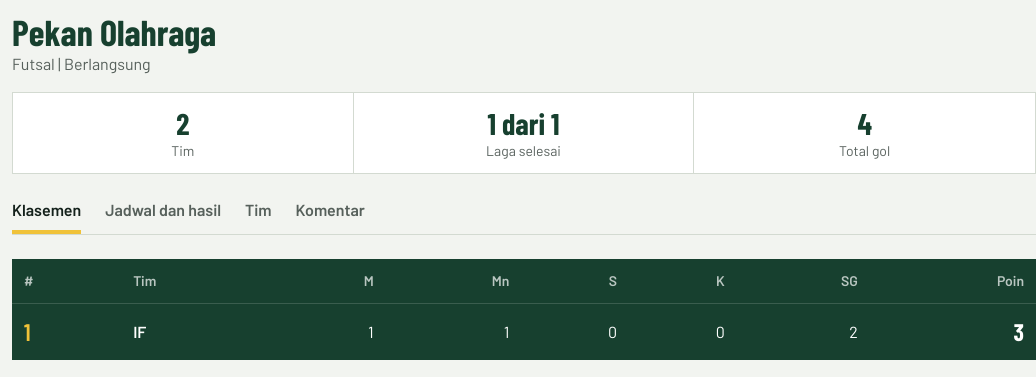
Test: DetailPage › menampilkan klasemen dan tab hasil
expect the table is shown: met, box [12,259,1035,360]
Click the tab "Jadwal dan hasil". click: {"x": 163, "y": 216}
box: [105,198,221,234]
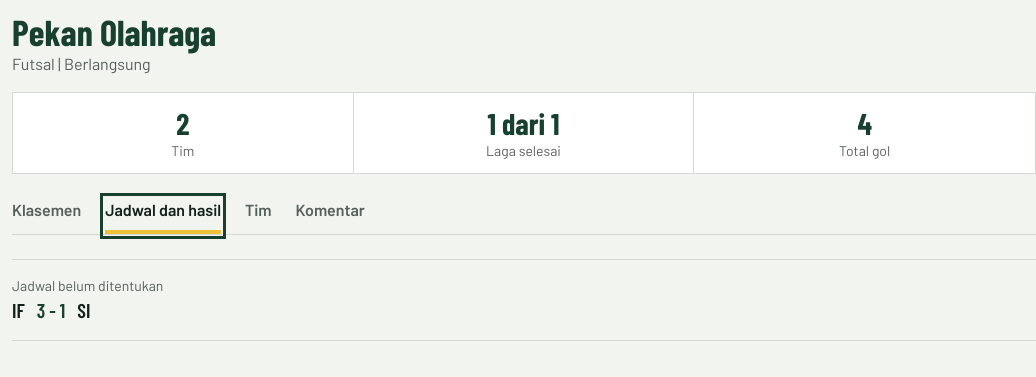
expect the text "3 - 1" is shown: met, box [37,298,65,322]
